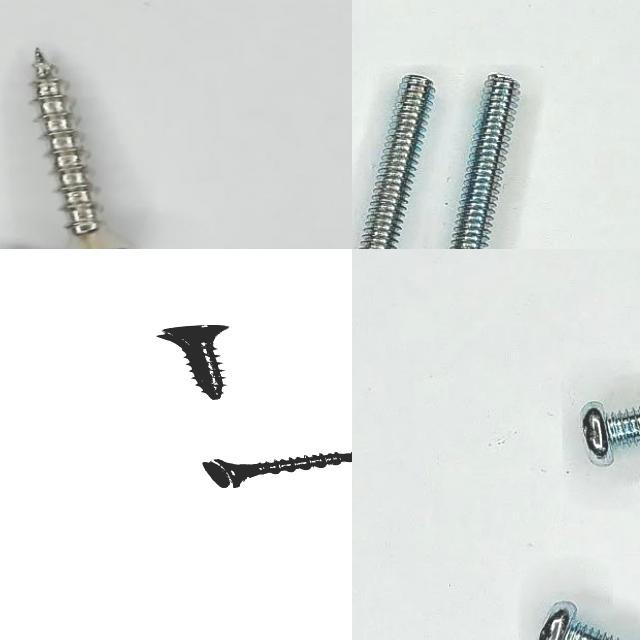Screw: (32, 48, 127, 249), (359, 75, 433, 249), (450, 74, 520, 249), (184, 442, 352, 492), (158, 324, 230, 400)
